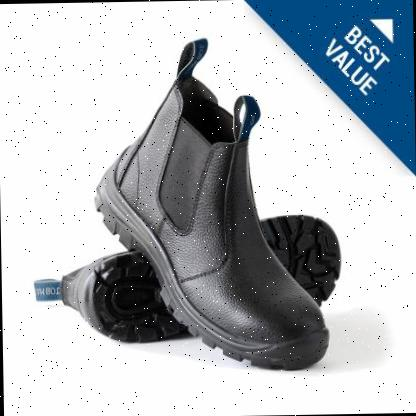bota: (45, 26, 346, 374)
